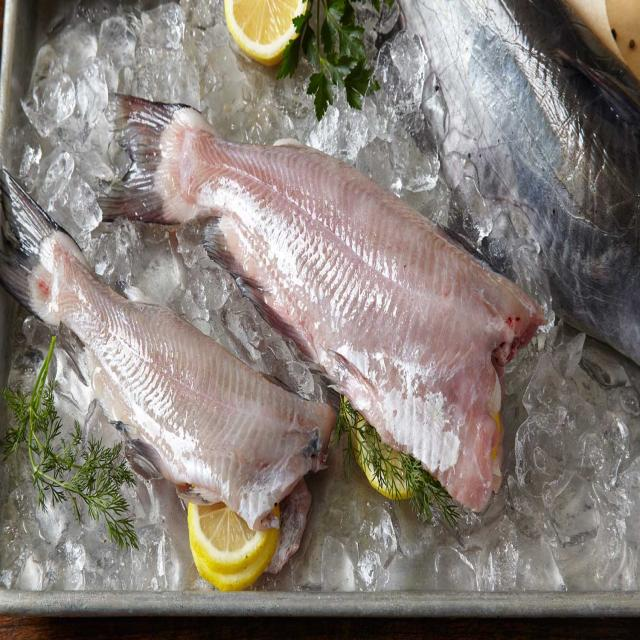Catfish: (105, 79, 545, 507), (0, 149, 342, 526)
Coriander: (0, 328, 156, 550), (330, 399, 482, 536), (284, 0, 382, 115)
lemon: (182, 513, 278, 583), (222, 0, 312, 65), (350, 415, 418, 501)
